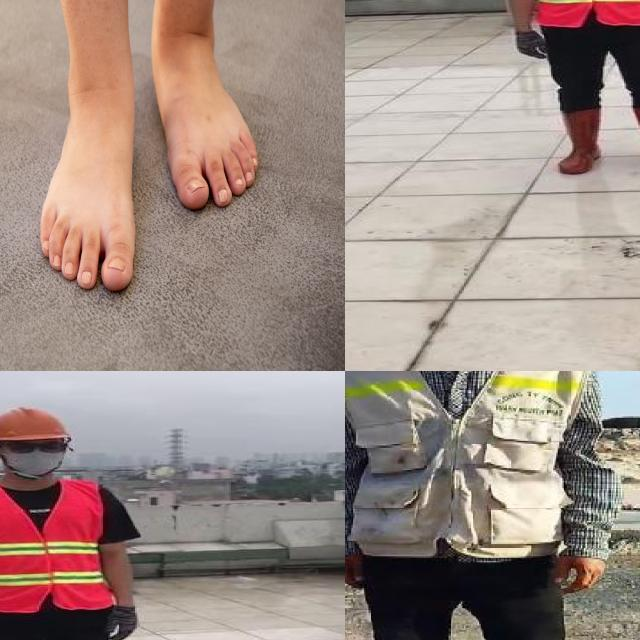Sandals: (39, 44, 134, 287), (151, 14, 258, 205)
boots: (553, 105, 603, 177)
face_mask: (0, 440, 69, 477)
glasses: (2, 438, 69, 456)
hand_glove: (512, 31, 551, 60), (105, 607, 137, 640)
hand_noglove: (567, 542, 640, 616)
head_helmet: (0, 403, 73, 444)
person: (345, 371, 636, 640), (0, 404, 158, 640), (488, 0, 640, 178)
vest: (0, 478, 112, 610)
